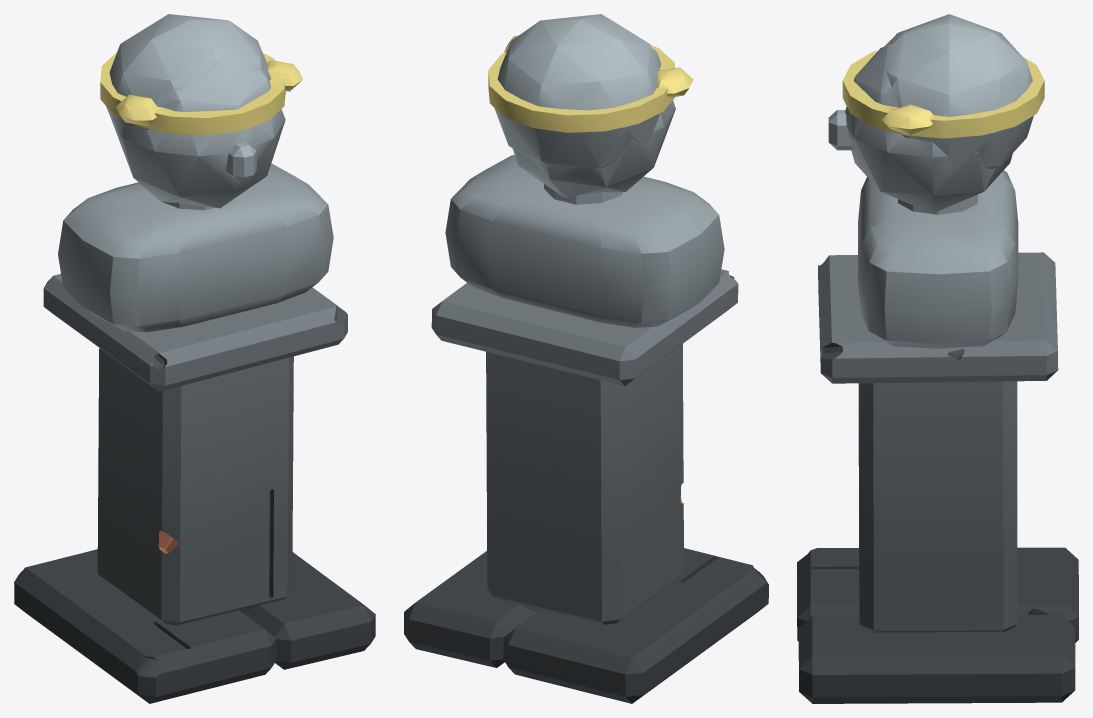
The model's file is bust_pedestal.glb.
3 renders of one model, left to right at view 1: azimuth 30°, elevation 25°; view 2: azimuth 150°, elevation 25°; view 3: azimuth 270°, elevation 25°, orthographic. The views are drawn at different scales.
Parts seen in each view (by area): view 1: bust_pedestal; view 2: bust_pedestal; view 3: bust_pedestal.
Part boxes in pixels (x1=…): bust_pedestal: x1=14, y1=14, x2=375, y2=703; bust_pedestal: x1=404, y1=14, x2=768, y2=703; bust_pedestal: x1=797, y1=14, x2=1078, y2=703.
Size of the model in its own units: 1.01 by 2.47 by 1.01.
Materials: 1 (1 with a texture image).
